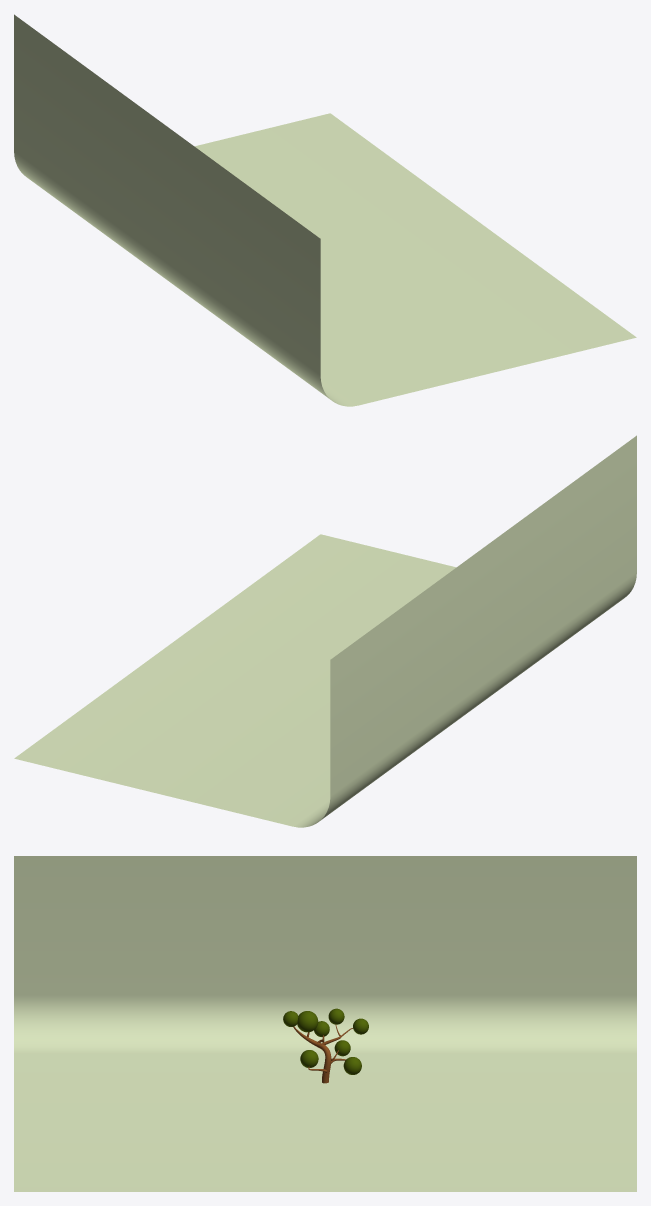
The model's file is low+poly+tree+1_High.glb.
3 renders of one model, top to bottom at view 1: azimuth 30°, elevation 25°; view 2: azimuth 150°, elevation 25°; view 3: azimuth 270°, elevation 25°, orthographic.
Parts seen in each view (by area): view 1: Cube; view 2: Cube; view 3: Cube, tree.
Boxes of the visible parts, box(x1,y1,x2,y2) form: Cube: box(14, 14, 636, 406); Cube: box(14, 435, 636, 827); Cube: box(14, 856, 636, 1191); tree: box(283, 1008, 368, 1083).
Bounding box in the file's own units: 27.3 × 14.51 × 45.81.
